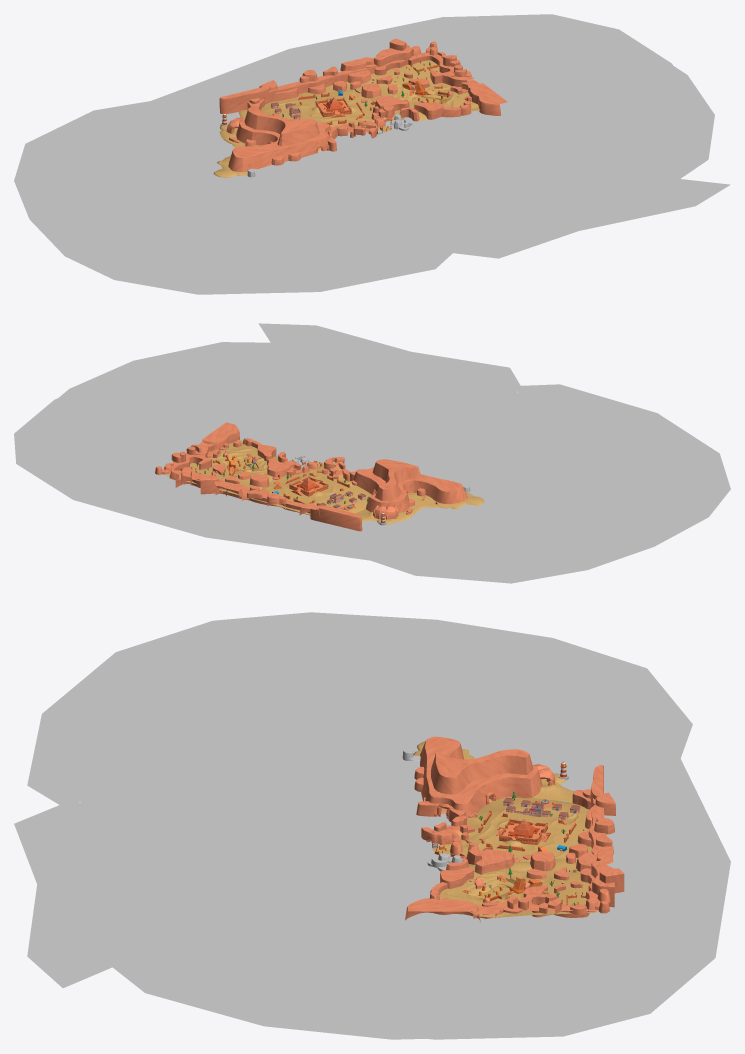
File: Desert Terrain.fbx
The picture shows the model from 3 angles, top to bottom: view 1: azimuth 30°, elevation 25°; view 2: azimuth 150°, elevation 25°; view 3: azimuth 270°, elevation 25°; orthographic projection. The views are drawn at different scales.
Parts seen in each view (by area): view 1: polySurface328, polySurface154; view 2: polySurface328, polySurface154; view 3: polySurface328, polySurface154.
Part boxes in pixels (left/top/right/bottom): polySurface328: left=14, top=14, right=730, bottom=294; polySurface154: left=213, top=38, right=507, bottom=177; polySurface328: left=14, top=323, right=730, bottom=583; polySurface154: left=155, top=422, right=484, bottom=531; polySurface328: left=14, top=612, right=730, bottom=1039; polySurface154: left=402, top=736, right=624, bottom=922.
Size of the model in its own units: 363 by 15.65 by 258.
